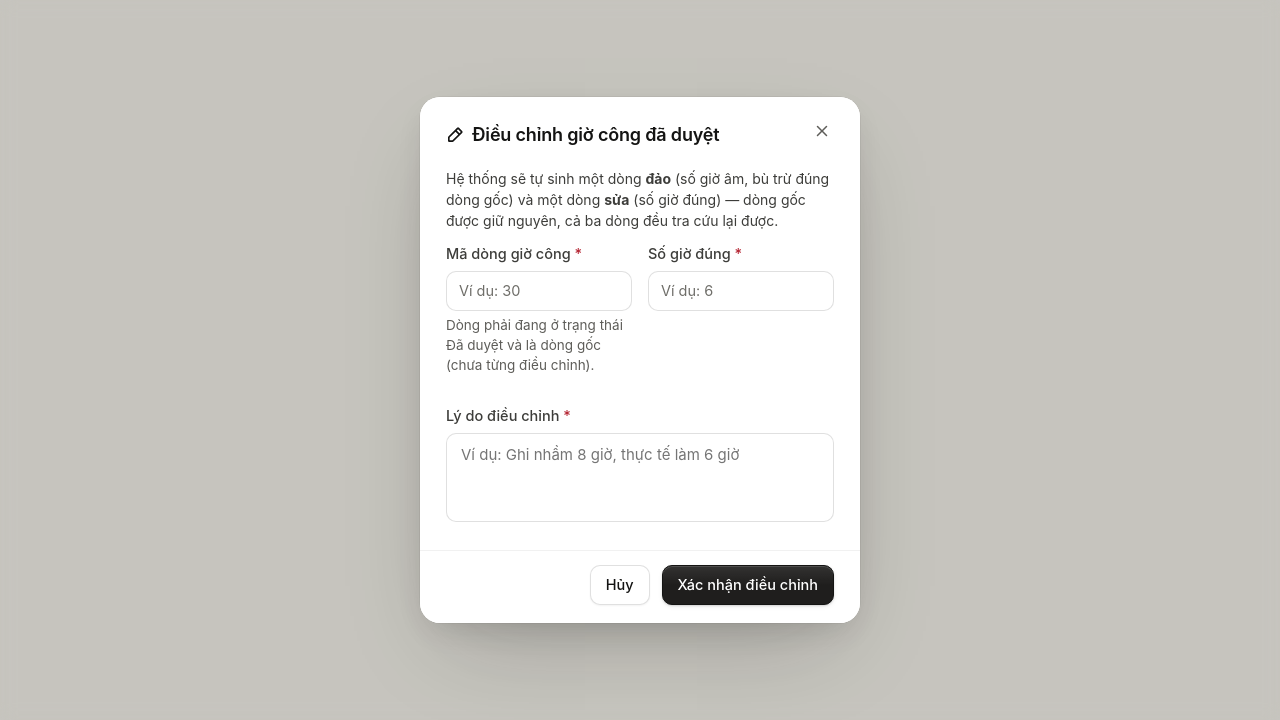
Test: AdjustmentModal (NCL-06-CN-005) › báo lỗi khi thiếu Entry ID, số giờ đúng hoặc lý do — không gọi API
The image size is (1280, 720).
Click the button "Xác nhận điều chỉnh".
click(748, 585)  # box [662,565,834,605]
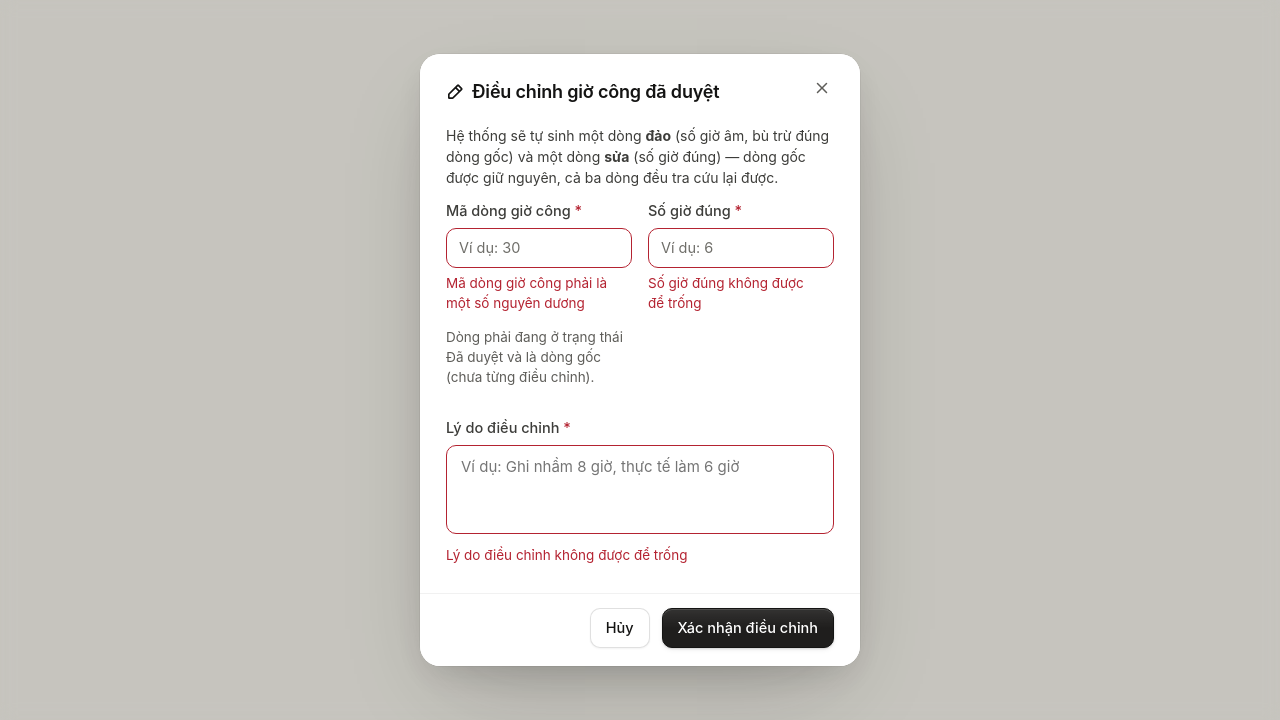
Now the text "Mã dòng giờ công phải là một số nguyên dương" is shown, box [446,273,632,313]
Now the text "Số giờ đúng không được để trống" is shown, box [648,275,804,311]
Now the text "Lý do điều chỉnh không được để trống" is shown, box [446,547,688,563]
